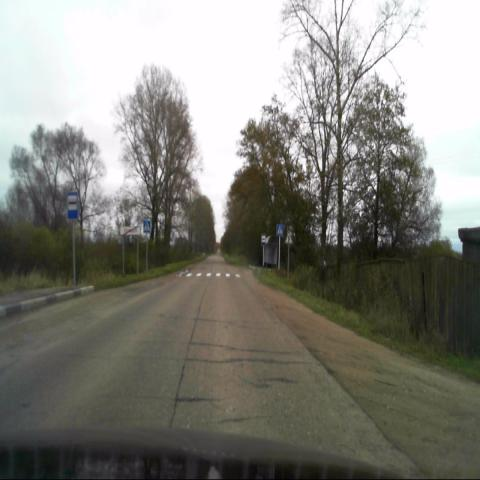5_16: (68, 193, 77, 218)
